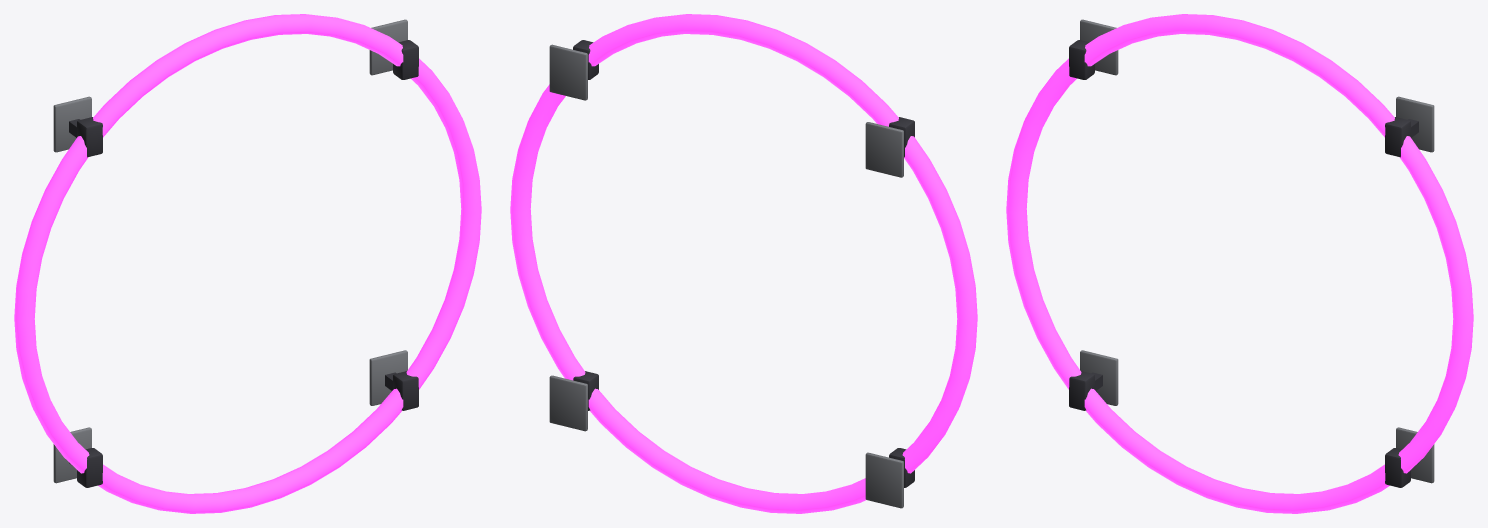
The model's file is KIT_Neon_Anel_Rosa.glb.
The picture shows the model from 3 angles, left to right: view 1: azimuth 30°, elevation 25°; view 2: azimuth 150°, elevation 25°; view 3: azimuth 330°, elevation 25°; orthographic projection.
Parts seen in each view (by area): view 1: KIT_Neon_Anel_Rosa; view 2: KIT_Neon_Anel_Rosa; view 3: KIT_Neon_Anel_Rosa.
Boxes of the visible parts, x1,y1,x2,y2 form: KIT_Neon_Anel_Rosa: (14, 14, 481, 513); KIT_Neon_Anel_Rosa: (510, 14, 977, 513); KIT_Neon_Anel_Rosa: (1006, 14, 1473, 513).
Bounding box in the file's own units: 0.624 × 0.624 × 0.055.
